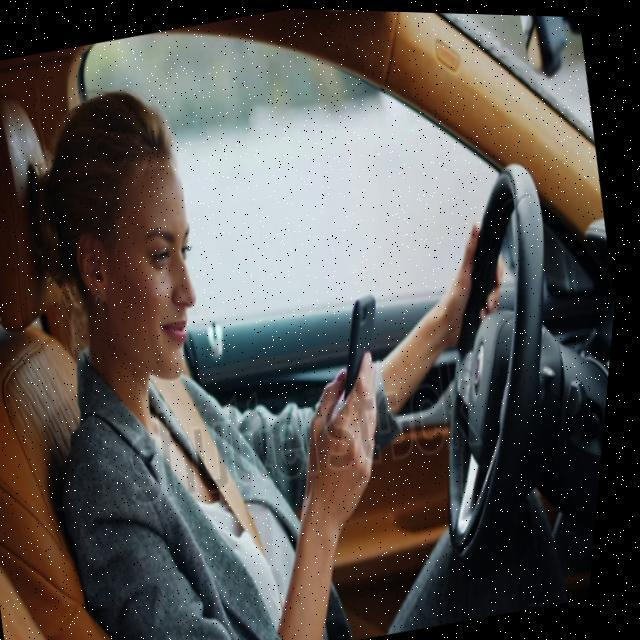PhoneCall: (330, 292, 404, 419)
